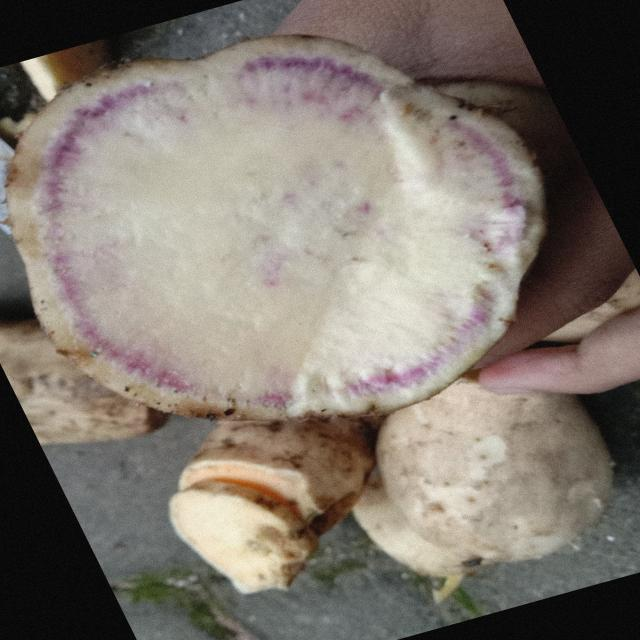Healthy Sweet Potato: (8, 36, 543, 419)
